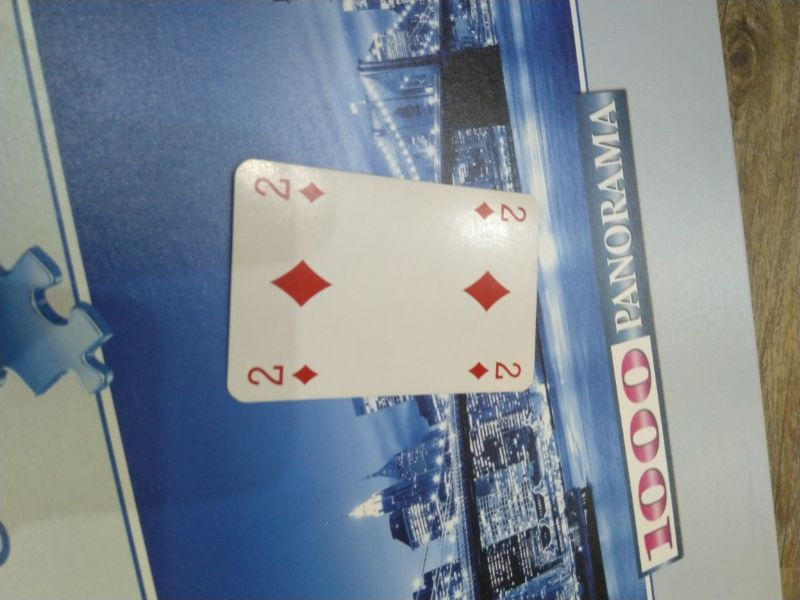2d: (251, 172, 328, 205), (243, 361, 322, 389), (472, 198, 528, 226), (467, 357, 524, 382)
